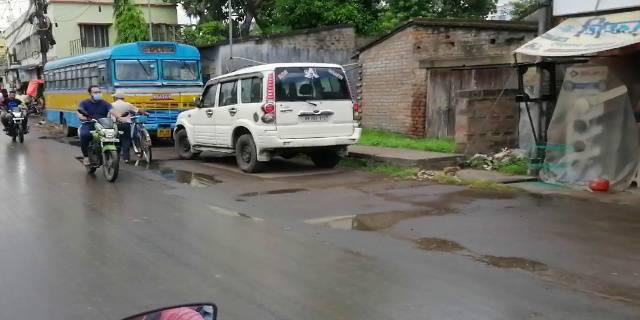Bus: (45, 37, 191, 126)
Car: (178, 64, 366, 169)
Motorbike: (76, 83, 126, 185), (3, 91, 32, 146)
